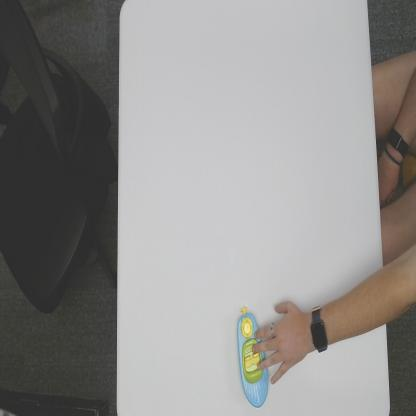Arm: (328, 266, 386, 342)
Boat: (236, 304, 270, 410)
Hand: (252, 300, 310, 386)
